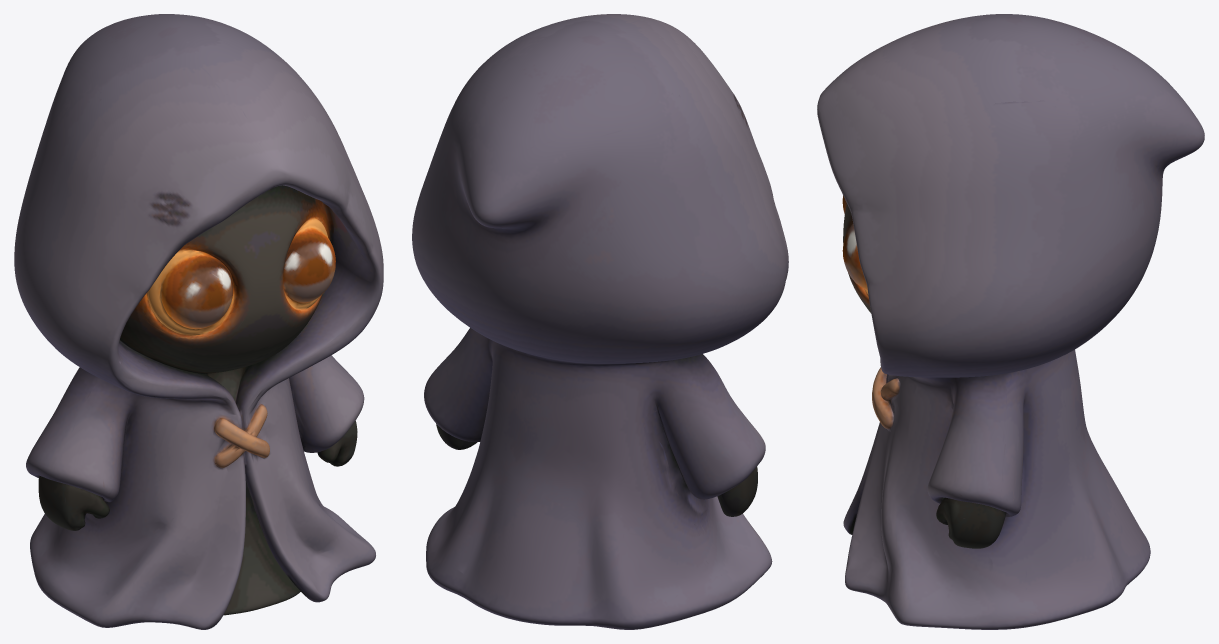
File: stage_3.glb
3 views of the same model, side by side, from view 1: azimuth 30°, elevation 25°; view 2: azimuth 150°, elevation 25°; view 3: azimuth 270°, elevation 25° (orthographic).
Visible parts, largest first — view 1: convert; view 2: convert; view 3: convert.
Part boxes in pixels (box(x1,y1,x2,y2)): convert: box(14, 14, 383, 629); convert: box(412, 14, 788, 629); convert: box(817, 14, 1204, 629).
Size of the model in its own units: 0.6484 by 1.01 by 0.6644.
Materials: 1 (1 with a texture image).
